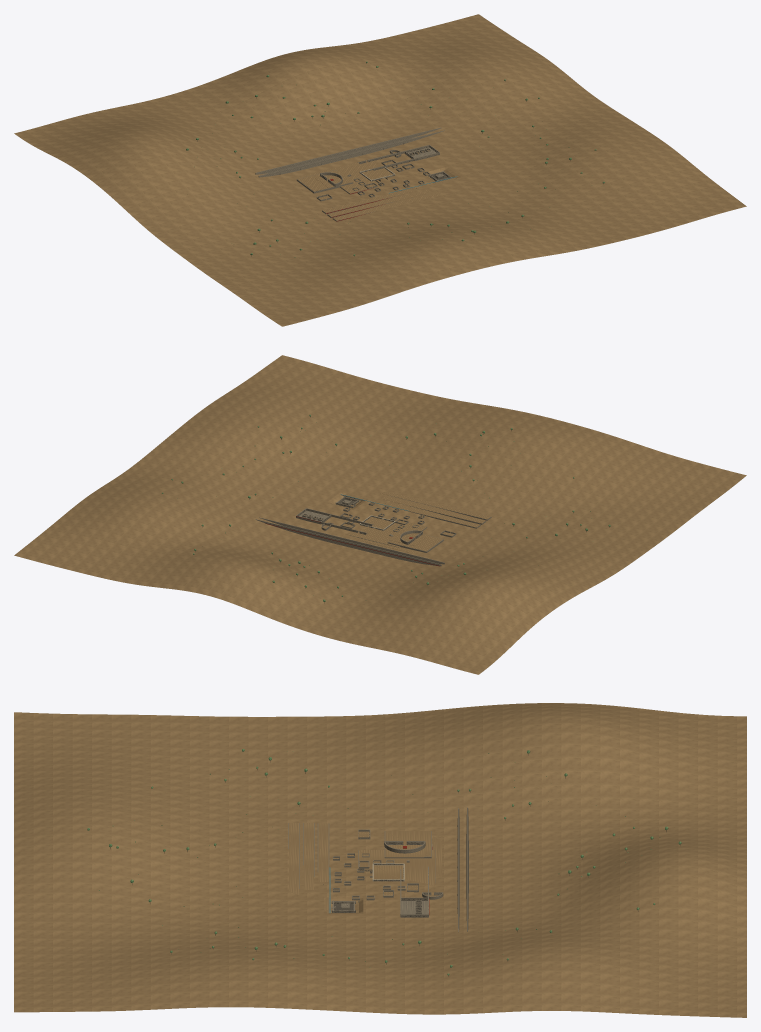
The picture shows the model from 3 angles, top to bottom: view 1: azimuth 30°, elevation 25°; view 2: azimuth 150°, elevation 25°; view 3: azimuth 270°, elevation 25°; orthographic projection. The views are drawn at different scales.
Parts seen in each view (by area): view 1: GEO-Wari_LOD0_Terrain, GEO-Wari_LOD0_City, GEO-Wari_LOD0_Props; view 2: GEO-Wari_LOD0_Terrain, GEO-Wari_LOD0_City, GEO-Wari_LOD0_Props; view 3: GEO-Wari_LOD0_Terrain, GEO-Wari_LOD0_City, GEO-Wari_LOD0_Props.
Part boxes in pixels (bbox=[...]): GEO-Wari_LOD0_Terrain: bbox=[14, 14, 746, 326]; GEO-Wari_LOD0_City: bbox=[255, 127, 456, 221]; GEO-Wari_LOD0_Props: bbox=[186, 61, 604, 257]; GEO-Wari_LOD0_Terrain: bbox=[14, 355, 746, 674]; GEO-Wari_LOD0_City: bbox=[255, 491, 491, 566]; GEO-Wari_LOD0_Props: bbox=[162, 414, 610, 603]; GEO-Wari_LOD0_Terrain: bbox=[14, 703, 746, 1017]; GEO-Wari_LOD0_City: bbox=[288, 807, 468, 932]; GEO-Wari_LOD0_Props: bbox=[87, 749, 681, 976].
Bounding box in the file's own units: 900 × 55.18 × 900.
Materials: 9 (5 with a texture image).
